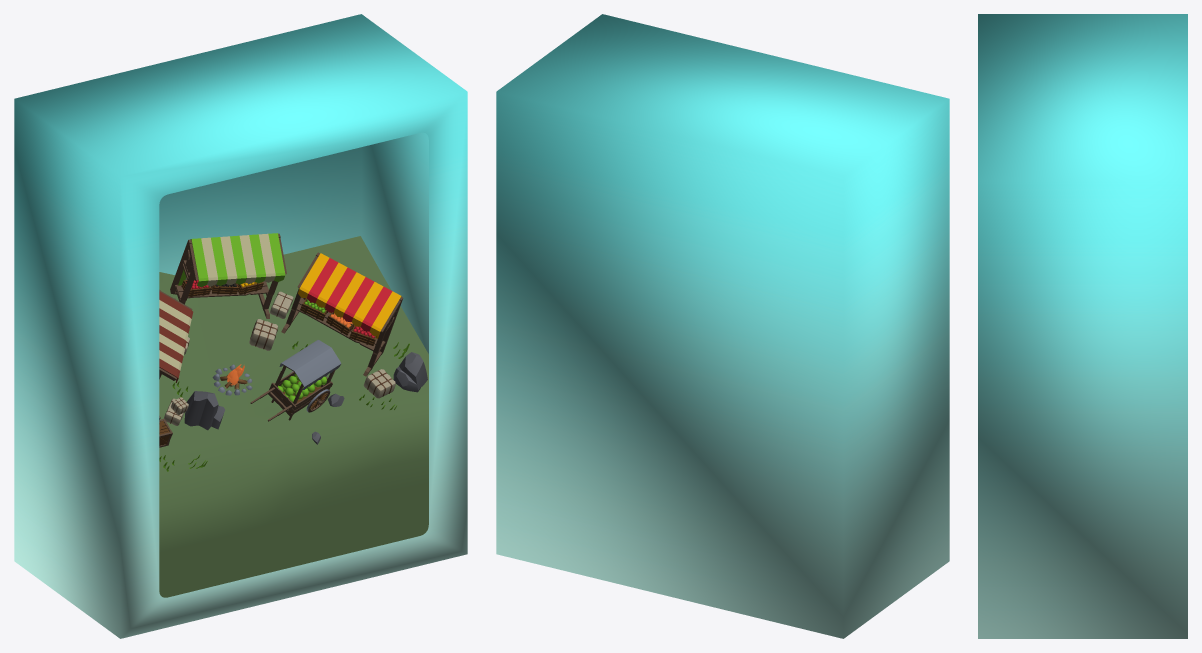
Rendered from 4_Market.glb.
The picture shows the model from 3 angles, left to right: view 1: azimuth 30°, elevation 25°; view 2: azimuth 150°, elevation 25°; view 3: azimuth 270°, elevation 25°; orthographic projection.
Parts seen in each view (by area): view 1: 4_Market_bg, 4_Market; view 2: 4_Market_bg; view 3: 4_Market_bg.
Part boxes in pixels (x1,y1,x2,y2): 4_Market_bg: (14,14,467,638); 4_Market: (159,233,428,597); 4_Market_bg: (496,14,949,638); 4_Market_bg: (978,14,1187,638).
Size of the model in its own units: 2.76 by 3.51 by 1.46.
Materials: 2 (2 with a texture image).
